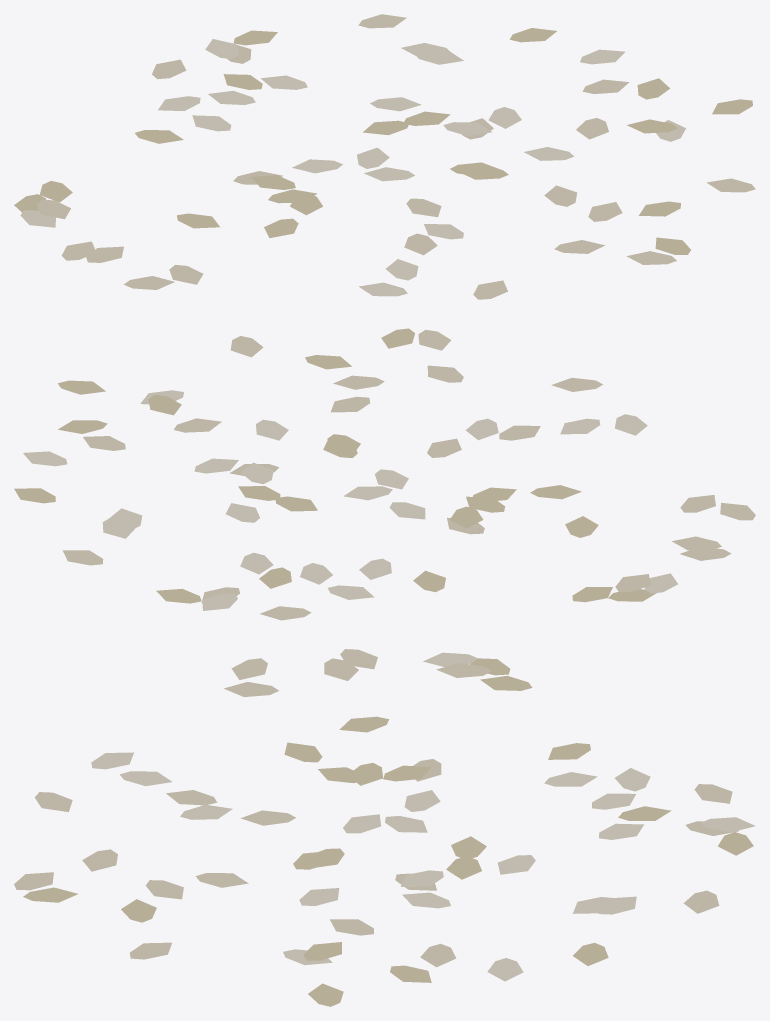
The model's file is ring_cream.glb.
The picture shows the model from 3 angles, top to bottom: view 1: azimuth 30°, elevation 25°; view 2: azimuth 150°, elevation 25°; view 3: azimuth 270°, elevation 25°; orthographic projection. The views are drawn at different scales.
Visible parts, largest first — view 1: body_nh; view 2: body_nh; view 3: body_nh.
Boxes of the visible parts, box(x1,y1,x2,y2) form: body_nh: box(14, 14, 755, 299); body_nh: box(14, 328, 755, 620); body_nh: box(14, 649, 755, 1006).
Size of the model in its own units: 10.23 by 0.0295 by 8.98.
